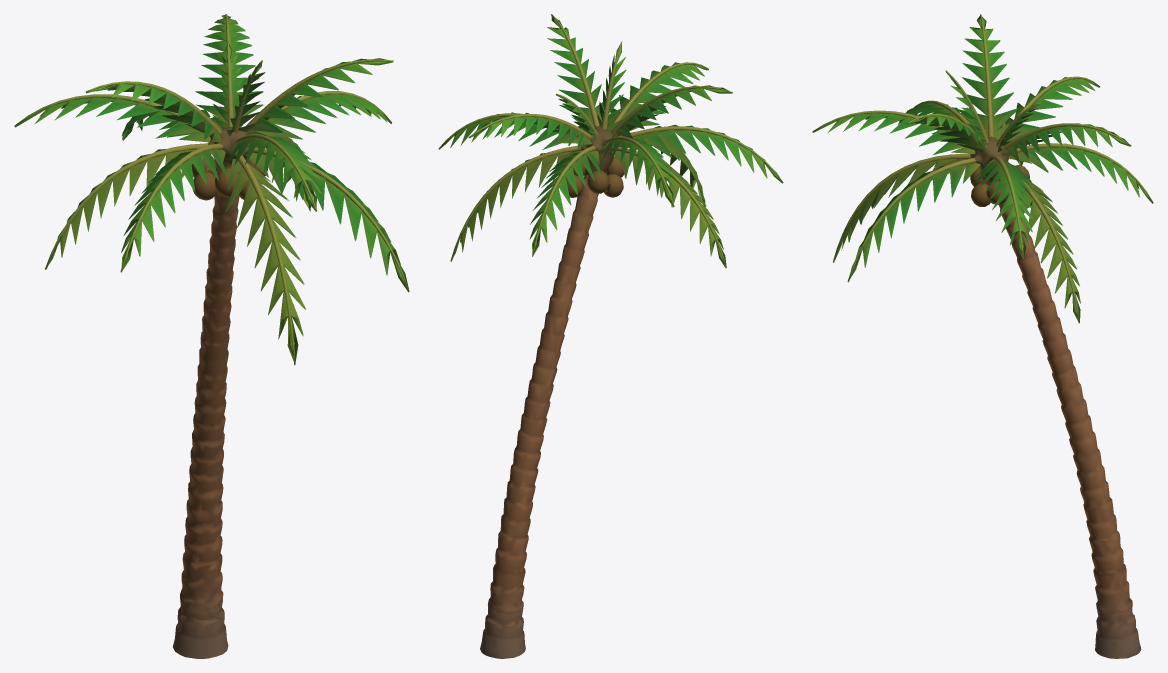
The model's file is palm_c.glb.
The picture shows the model from 3 angles, left to right: view 1: azimuth 30°, elevation 25°; view 2: azimuth 150°, elevation 25°; view 3: azimuth 270°, elevation 25°; orthographic projection. The views are drawn at different scales.
Visible parts, largest first — view 1: palm_c_mesh; view 2: palm_c_mesh; view 3: palm_c_mesh.
Boxes of the visible parts, left/top/right/bottom form: palm_c_mesh: left=14, top=14, right=409, bottom=658; palm_c_mesh: left=438, top=14, right=783, bottom=658; palm_c_mesh: left=812, top=14, right=1153, bottom=658.
Bounding box in the file's own units: 6.33 × 11.68 × 6.43.
